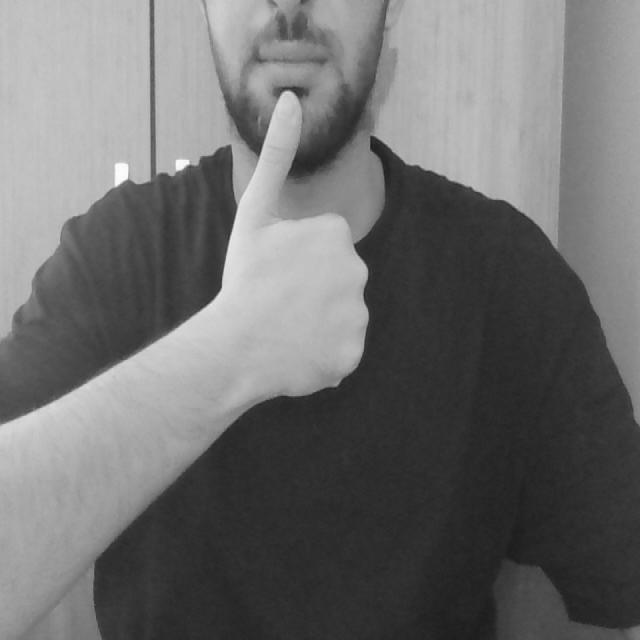Baba: (227, 13, 338, 189)
